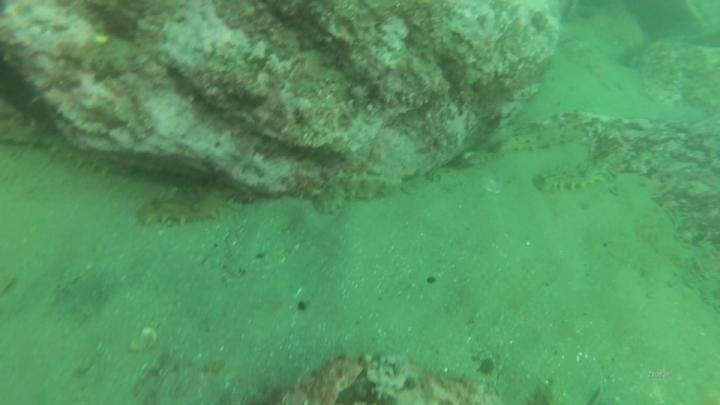holothurian: (1, 116, 129, 186), (134, 182, 244, 230), (531, 144, 632, 196), (308, 166, 405, 216), (493, 118, 587, 157)
